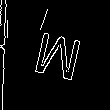M_S: (29, 29, 84, 89)
